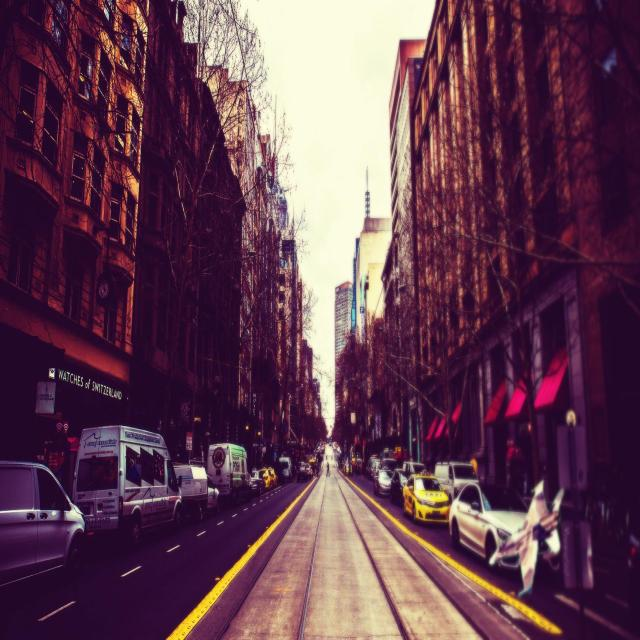airplane: (489, 480, 564, 599)
